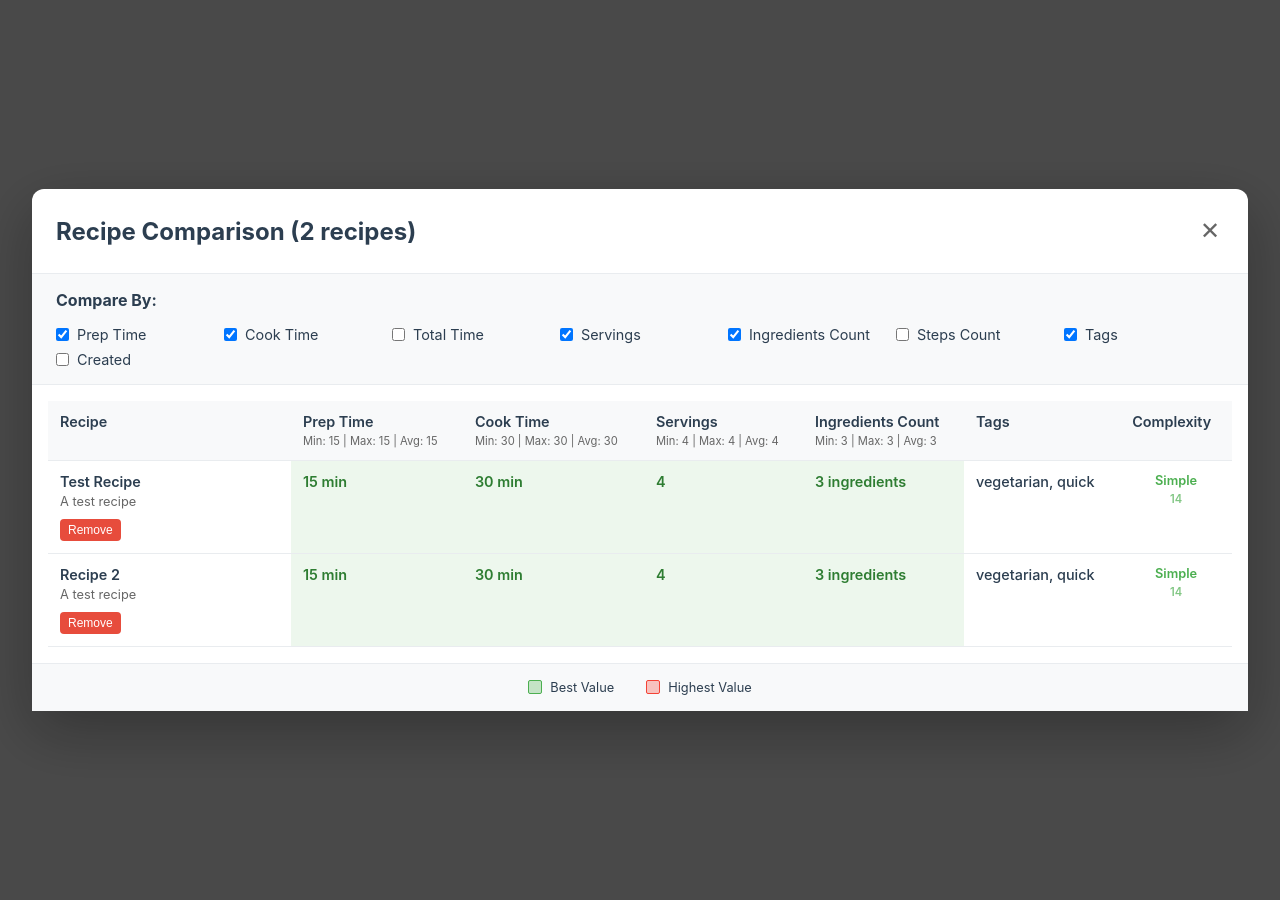
RecipeComparison › metric selection › should allow toggling metrics on and off
// Find and click the Total Time checkbox using a more specific selector
Click the checkbox labelled "Total Time" at (398,335), box top-left (392, 328), bottom-right (405, 341)
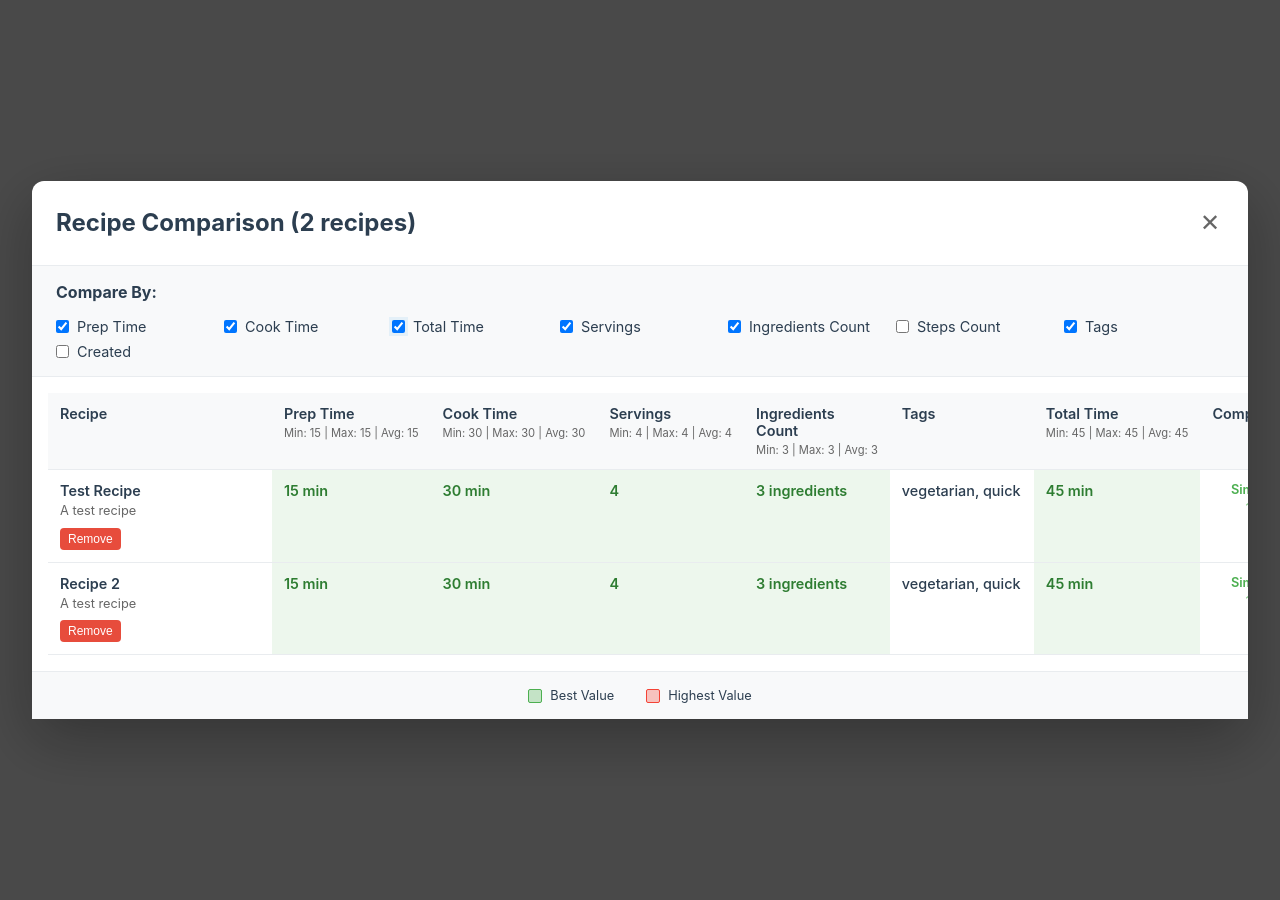
Expected: the column heading "Total Time Min: 45 | Max: 45 | Avg: 45" is shown, top-left (1034, 393), bottom-right (1200, 469)
